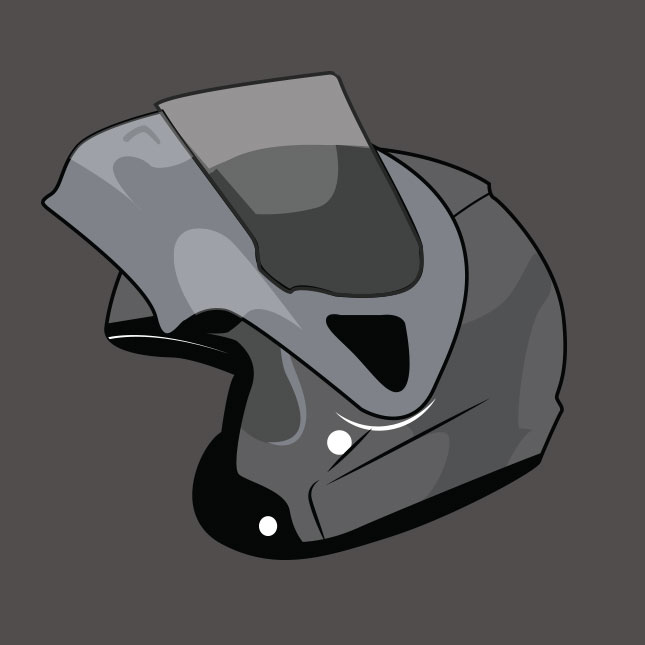with_helmet: (32, 68, 574, 566)
